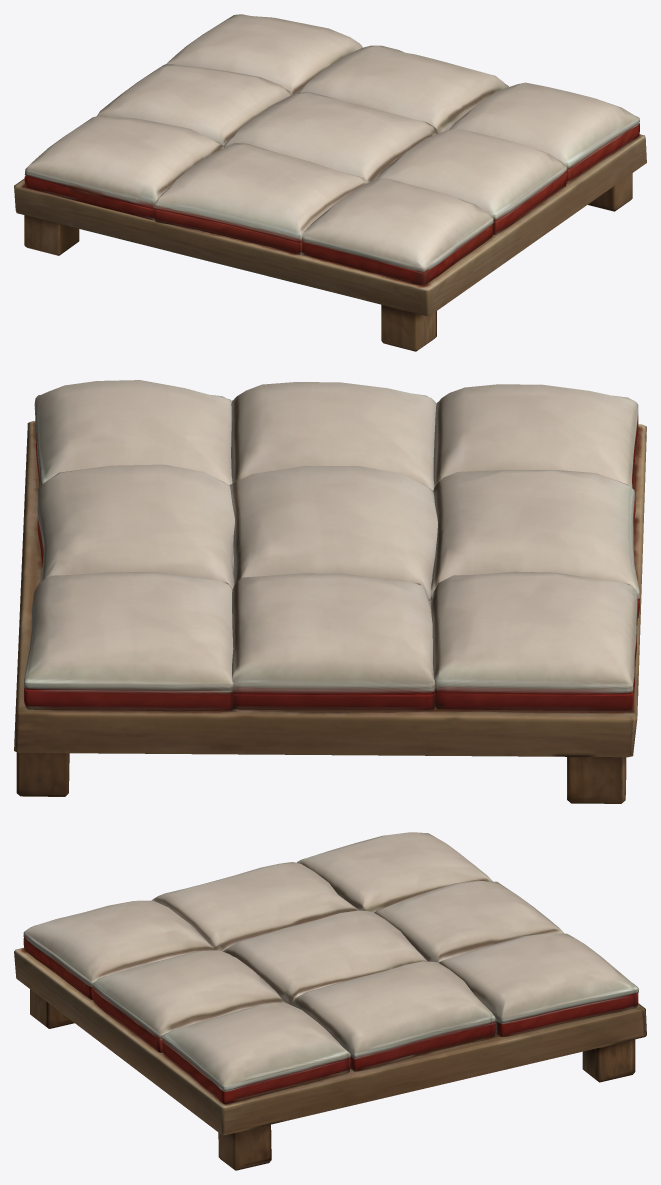
File: act1_kit_v1_quilted_platform.glb
3 views of the same model, one above another, from view 1: azimuth 30°, elevation 25°; view 2: azimuth 150°, elevation 25°; view 3: azimuth 270°, elevation 25° (orthographic). The views are drawn at different scales.
Parts seen in each view (by area): view 1: act1_kit_v1_quilted_platform; view 2: act1_kit_v1_quilted_platform; view 3: act1_kit_v1_quilted_platform.
Part boxes in pixels (x1=…): act1_kit_v1_quilted_platform: x1=14, y1=14, x2=646, y2=351; act1_kit_v1_quilted_platform: x1=14, y1=380, x2=646, y2=803; act1_kit_v1_quilted_platform: x1=14, y1=832, x2=646, y2=1170.
Size of the model in its own units: 0.9671 by 0.1976 by 1.
Materials: 1 (1 with a texture image).
